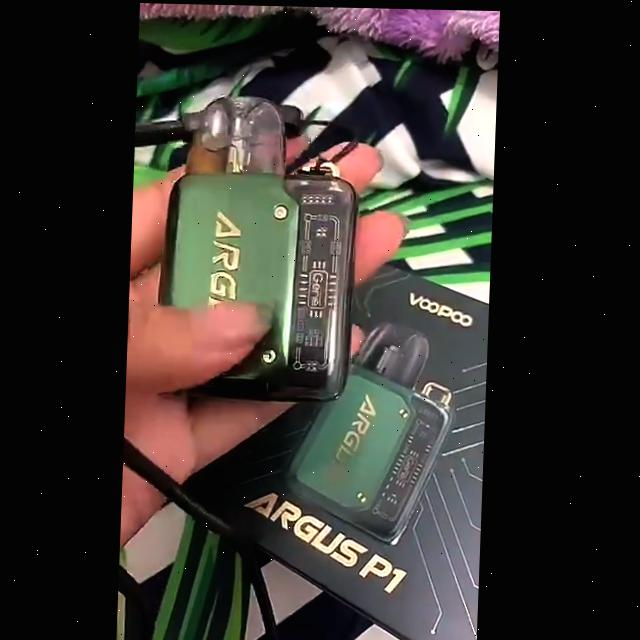vape: (156, 92, 364, 401), (290, 321, 459, 547)
